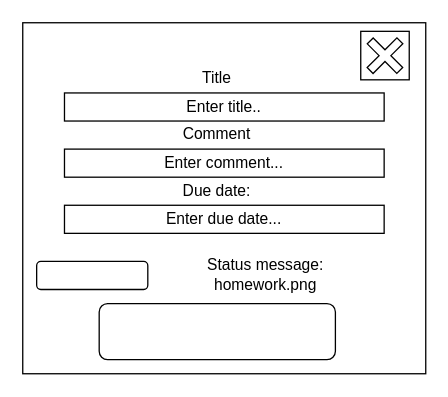
This 448x397 diagram has some shape labels left out. The shapes that lost their labels are listed below. From the top down, each one's centre as x and y in pixels, then its label:
point 91,275: Browse
point 216,331: Submit
